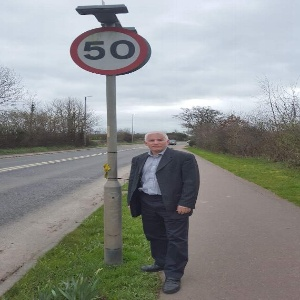50 speed: (70, 27, 150, 76)
